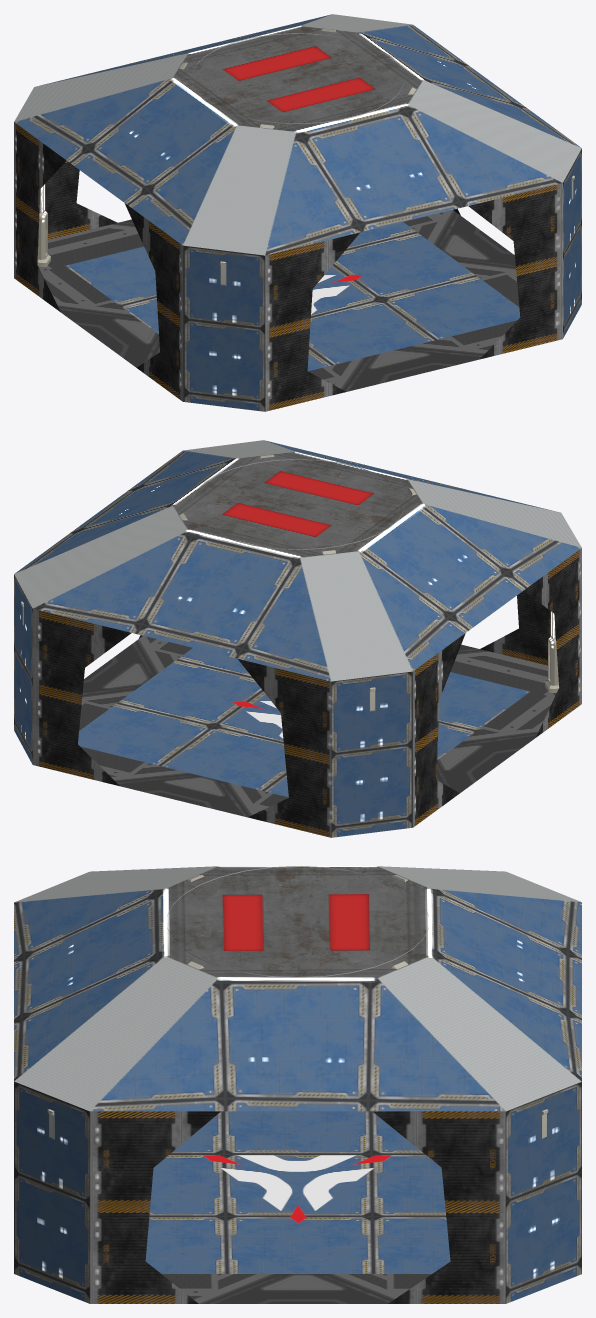
Rendered from SM_CorridorCross.fbx.
3 renders of one model, top to bottom at view 1: azimuth 30°, elevation 25°; view 2: azimuth 150°, elevation 25°; view 3: azimuth 270°, elevation 25°, orthographic. The views are drawn at different scales.
Visible parts, largest first — view 1: SM_CorridorCross_LOD0; view 2: SM_CorridorCross_LOD0; view 3: SM_CorridorCross_LOD0.
Part boxes in pixels (bbox=[...]): SM_CorridorCross_LOD0: bbox=[14, 14, 581, 411]; SM_CorridorCross_LOD0: bbox=[14, 440, 581, 837]; SM_CorridorCross_LOD0: bbox=[14, 866, 581, 1303].
Bounding box in the file's own units: 903 × 464 × 903.
